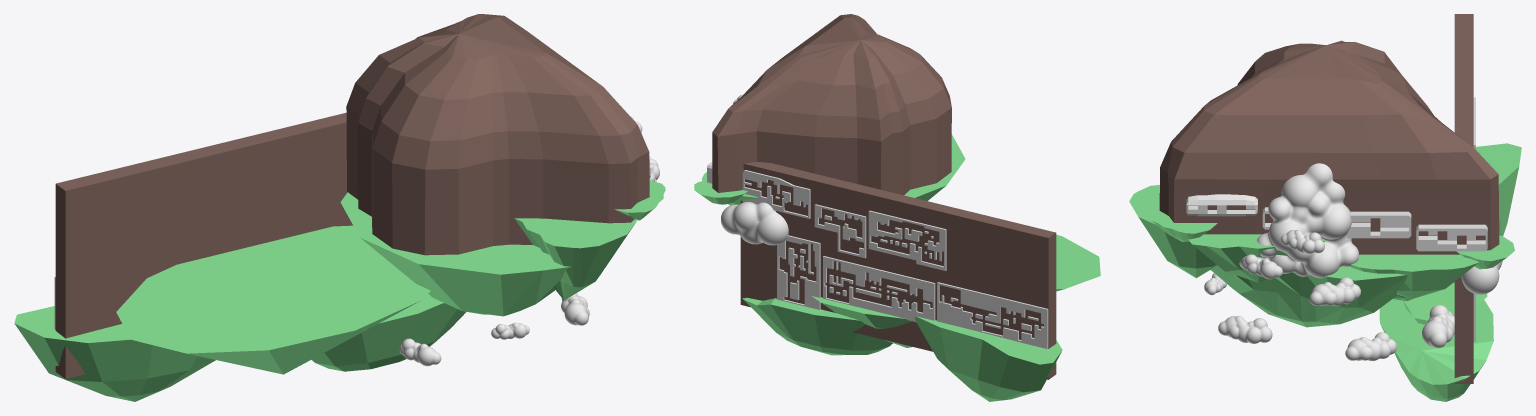
Rendered from level1.fbx.
3 views of the same model, side by side, from view 1: azimuth 30°, elevation 25°; view 2: azimuth 150°, elevation 25°; view 3: azimuth 270°, elevation 25° (orthographic). The views are drawn at different scales.
Parts seen in each view (by area): view 1: Cylinder, Wall, Cone.002, BigCone, Cone.001, Cone, BottomLeftCone, Mball.005, TopFarLeftCone, Mball.001; view 2: Cylinder, Wall, Cone.001, Cone, Puzzle 5, Puzzle 6, puzzle1cloud1, Puzzle 3, Puzzle 4, Cone.002, Puzzle 1, Puzzle 2 (+3 smaller); view 3: Cylinder, Mball.023, BigCone, Cone, Puzzle, Wall, FrontRightCone, BottomLeftCone, FrontLeftCone, Cone.001, Cone.003, Mball.001 (+8 smaller).
Part boxes in pixels (bbox=[...]): Cylinder: bbox=[346, 14, 649, 255]; Wall: bbox=[55, 112, 352, 378]; Cone.002: bbox=[116, 225, 430, 374]; BigCone: bbox=[340, 192, 570, 316]; Cone.001: bbox=[14, 306, 215, 401]; Cone: bbox=[311, 294, 465, 371]; BottomLeftCone: bbox=[514, 218, 637, 300]; Mball.005: bbox=[399, 338, 441, 366]; TopFarLeftCone: bbox=[614, 180, 665, 220]; Mball.001: bbox=[561, 293, 589, 325]; Cylinder: bbox=[712, 14, 951, 195]; Wall: bbox=[740, 162, 1056, 379]; Cone.001: bbox=[915, 316, 1062, 401]; Cone: bbox=[742, 297, 892, 355]; Puzzle 5: bbox=[823, 256, 935, 322]; Puzzle 6: bbox=[937, 282, 1048, 348]; puzzle1cloud1: bbox=[721, 202, 788, 245]; Puzzle 3: bbox=[868, 210, 946, 270]; Puzzle 4: bbox=[777, 235, 820, 309]; Cone.002: bbox=[1056, 234, 1100, 291]; Puzzle 1: bbox=[742, 170, 810, 218]; Puzzle 2: bbox=[814, 204, 866, 258]; Cylinder: bbox=[1159, 40, 1499, 254]; Mball.023: bbox=[1239, 163, 1358, 278]; BigCone: bbox=[1211, 265, 1407, 327]; Cone: bbox=[1379, 299, 1493, 401]; Puzzle: bbox=[1186, 194, 1487, 251]; Wall: bbox=[1454, 14, 1473, 383]; FrontRightCone: bbox=[1350, 254, 1478, 298]; BottomLeftCone: bbox=[1129, 185, 1216, 278]; FrontLeftCone: bbox=[1188, 234, 1325, 282]; Cone.001: bbox=[1476, 143, 1521, 235]; Cone.003: bbox=[1403, 283, 1487, 324]; Mball.001: bbox=[1218, 316, 1272, 343].
Size of the model in its own units: 6245 by 4067 by 4093.
